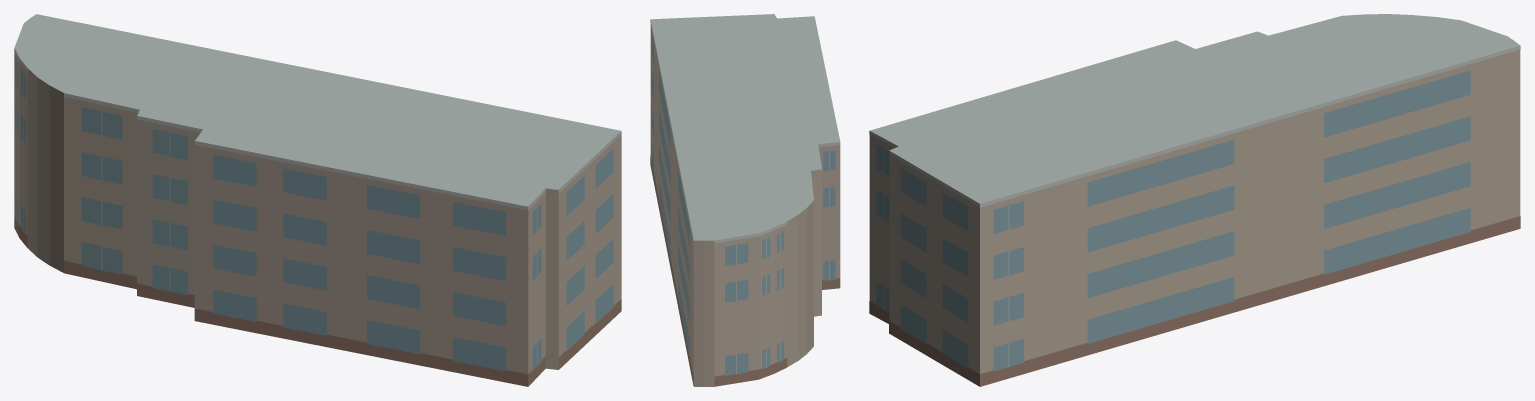
File: survey-upis-32504160.glb
3 renders of one model, left to right at view 1: azimuth 30°, elevation 25°; view 2: azimuth 150°, elevation 25°; view 3: azimuth 270°, elevation 25°, orthographic. The views are drawn at different scales.
Parts seen in each view (by area): view 1: survey-upis-32504160.tmp; view 2: survey-upis-32504160.tmp; view 3: survey-upis-32504160.tmp.
Part boxes in pixels (x1,y1,x2,y2): survey-upis-32504160.tmp: (14, 14, 621, 386); survey-upis-32504160.tmp: (650, 14, 840, 386); survey-upis-32504160.tmp: (869, 14, 1520, 386).
Bounding box in the file's own units: 25.89 × 11.63 × 37.49.
